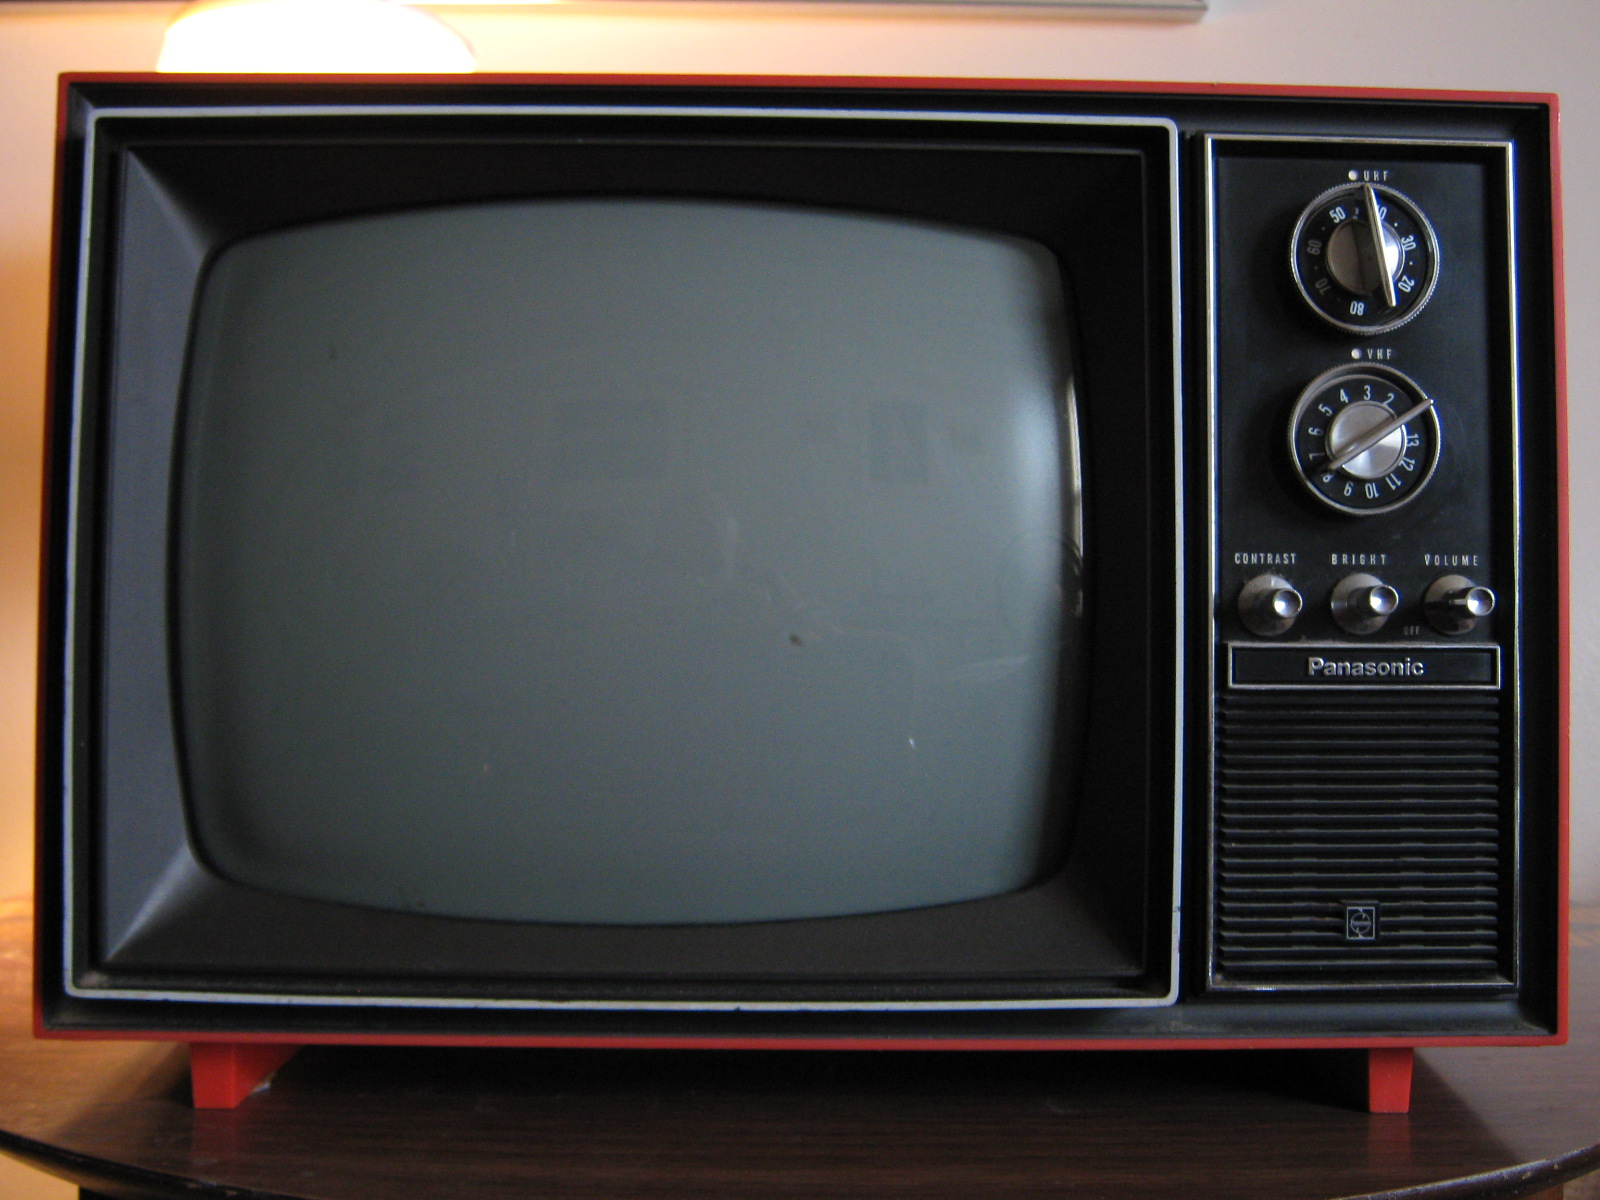tv monitor: (50, 64, 1594, 1051)
